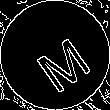M_NW: (21, 21, 89, 89)
